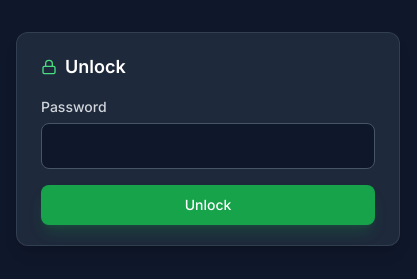
Test: UnlockGate › rejects a wrong password
The width and height of the screenshot is (417, 279).
(page scrolled)
Click the button "Unlock": (208, 205) [41,185,375,225]
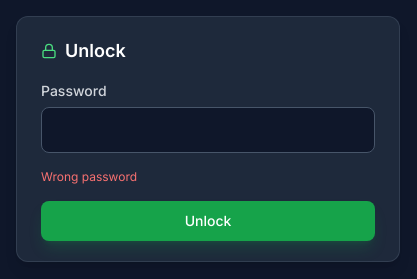
Result: the message reads "Wrong password" at [41,169,137,184]
